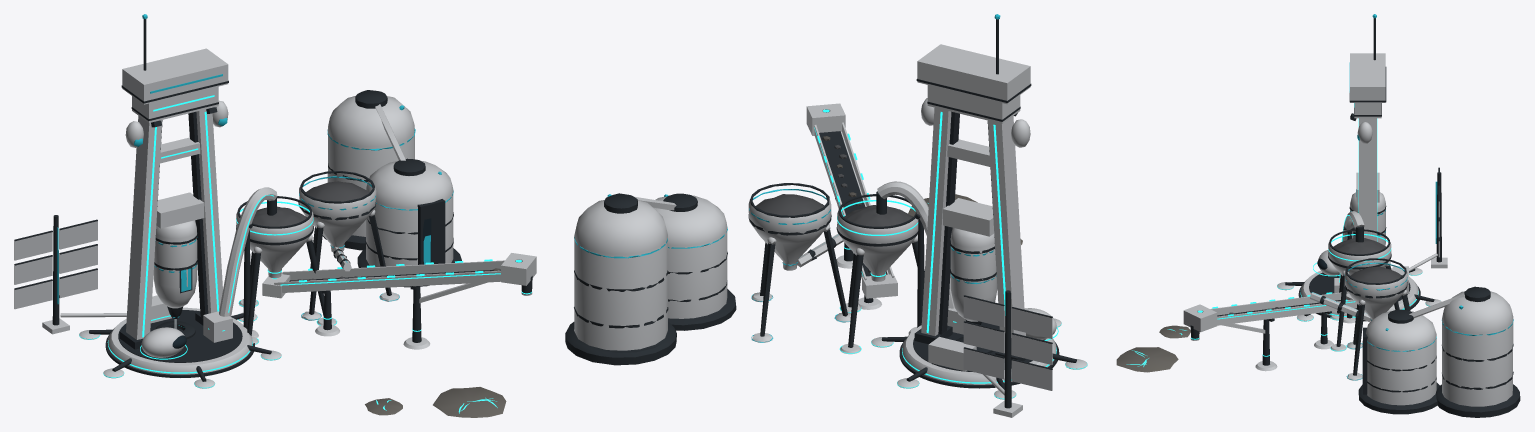
The model's file is mine_cap_fix_v2_a60eae4b.glb.
The picture shows the model from 3 angles, left to right: view 1: azimuth 30°, elevation 25°; view 2: azimuth 150°, elevation 25°; view 3: azimuth 270°, elevation 25°; orthographic projection. The views are drawn at different scales.
Parts seen in each view (by area): view 1: Base_Paint, Silo, Tier_12, Tier_08, Tier_05, Tier_20, Rig, Base_GlowCyan, Deposit_01, Deposit_02; view 2: Base_Paint, Tier_12, Silo, Tier_08, Tier_05, Tier_20, Rig, Base_GlowCyan; view 3: Base_Paint, Tier_12, Silo, Tier_05, Tier_20, Deposit_01, Tier_08, Base_GlowCyan, Rig.
Part boxes in pixels (x1,y1,x2,y2): Base_Paint: (79, 86, 536, 388); Silo: (357, 158, 461, 287); Tier_12: (322, 90, 415, 250); Tier_08: (14, 215, 126, 334); Tier_05: (298, 171, 399, 320); Tier_20: (121, 14, 228, 147); Rig: (153, 192, 204, 328); Base_GlowCyan: (79, 95, 531, 388); Deposit_01: (433, 387, 506, 417); Deposit_02: (365, 398, 402, 415); Base_Paint: (806, 85, 1087, 399); Tier_12: (565, 193, 676, 365); Silo: (653, 193, 736, 330); Tier_08: (963, 290, 1052, 417); Tier_05: (748, 183, 851, 342); Tier_20: (916, 14, 1031, 147); Rig: (943, 198, 997, 324); Base_GlowCyan: (814, 112, 1087, 399); Base_Paint: (1183, 103, 1441, 371); Tier_12: (1409, 286, 1520, 417); Silo: (1358, 309, 1439, 414); Tier_05: (1310, 258, 1410, 380); Tier_20: (1349, 14, 1386, 143); Deposit_01: (1116, 347, 1178, 372); Tier_08: (1409, 167, 1447, 271); Base_GlowCyan: (1191, 103, 1429, 356); Rig: (1349, 172, 1386, 245).
Size of the model in its own units: 29.26 by 21.87 by 29.46.
